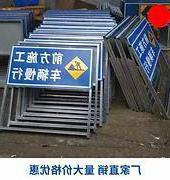sign: (8, 46, 97, 91), (130, 19, 161, 83)
